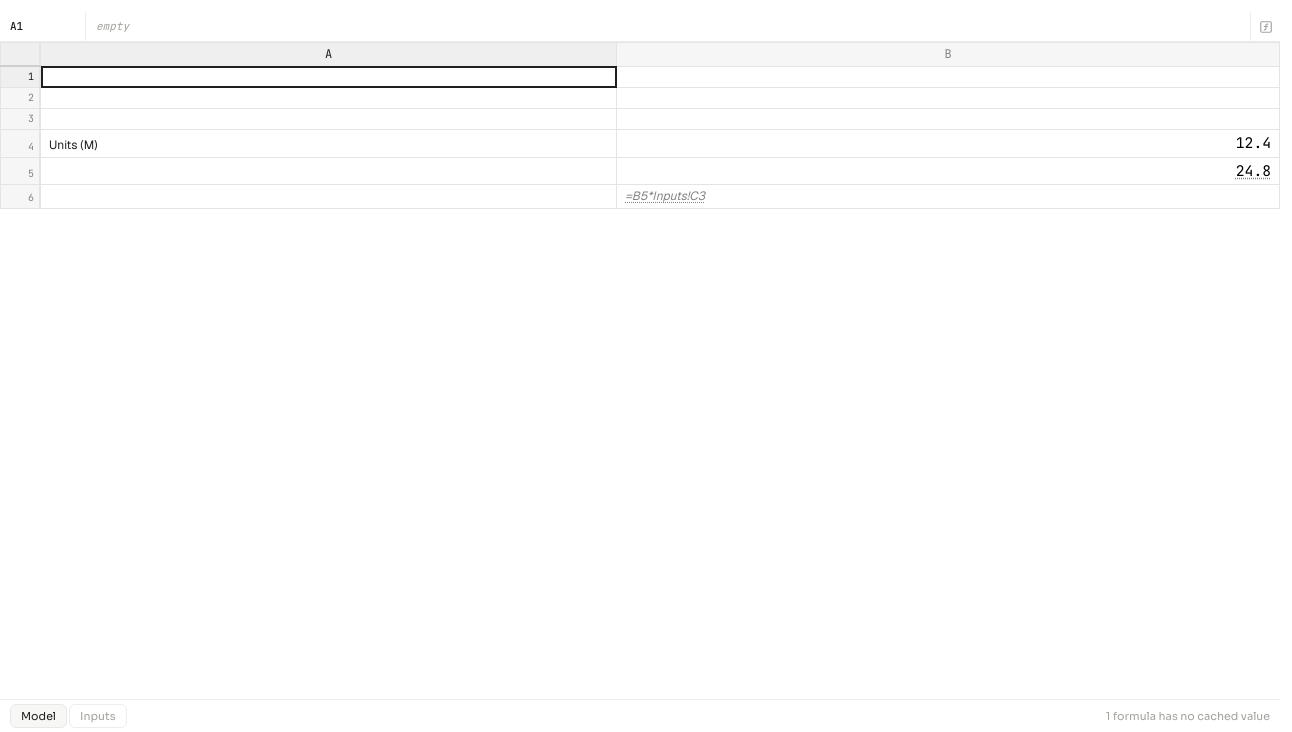
it: ExcelViewer › selects a whole row from its number, and with Shift+Space
Expected: the text "Units (M)" is shown, [40, 130, 617, 157]
Press the mouse on the column heading titled "Select row 4" at (20, 144), box [0, 130, 40, 157]
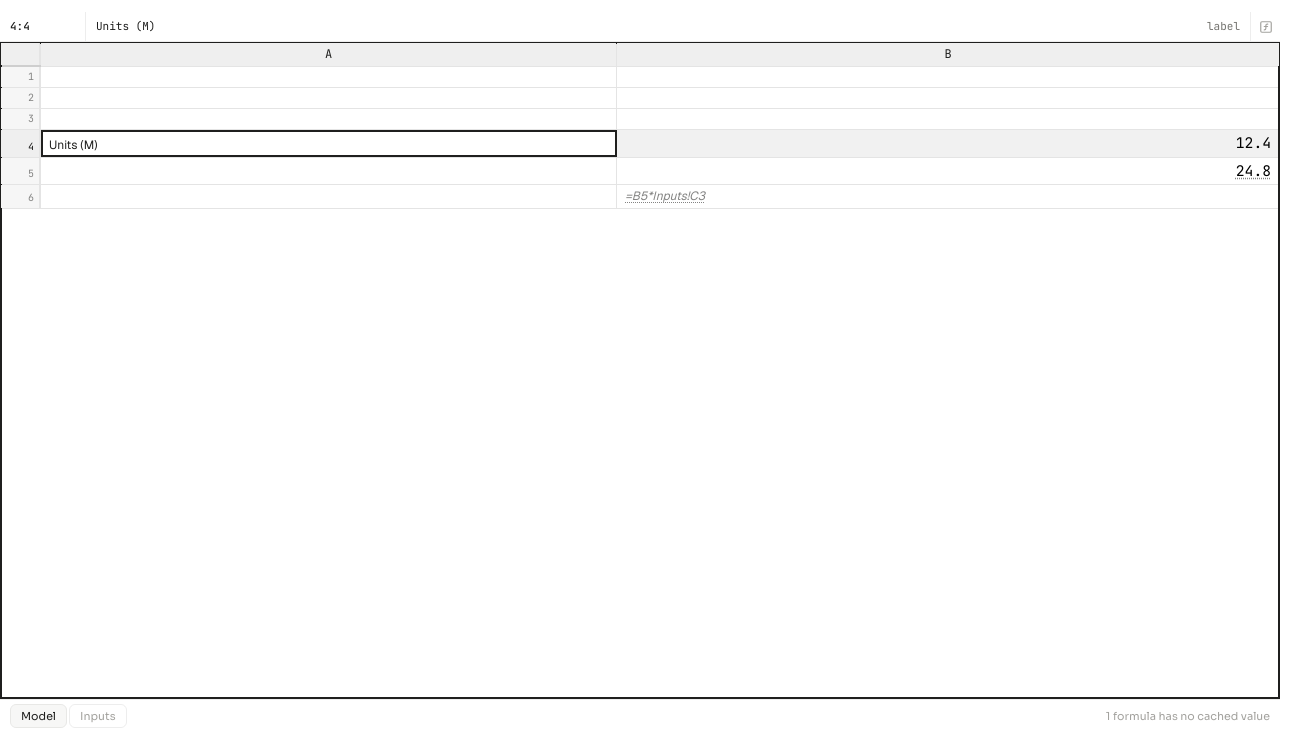
Press the mouse on the cell "24.8" at (948, 171), box [617, 157, 1280, 185]
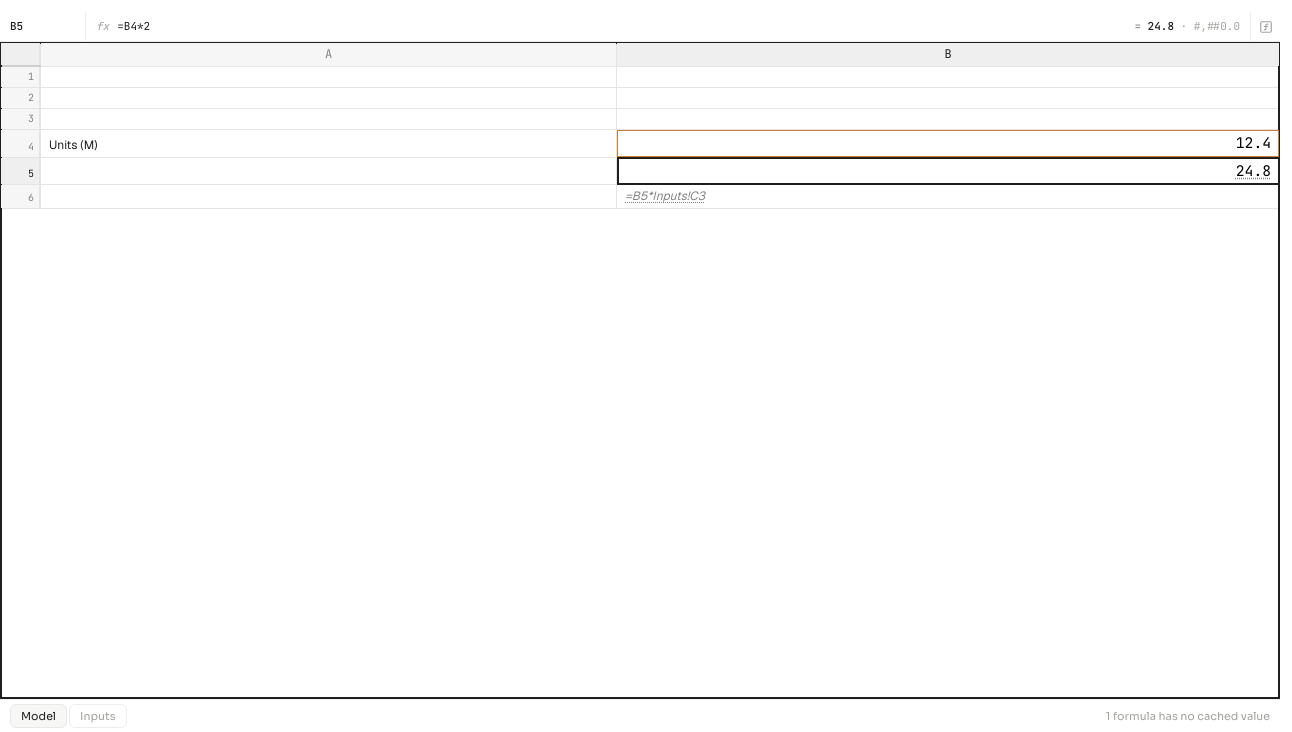
Press Space in the table named "Model cells"
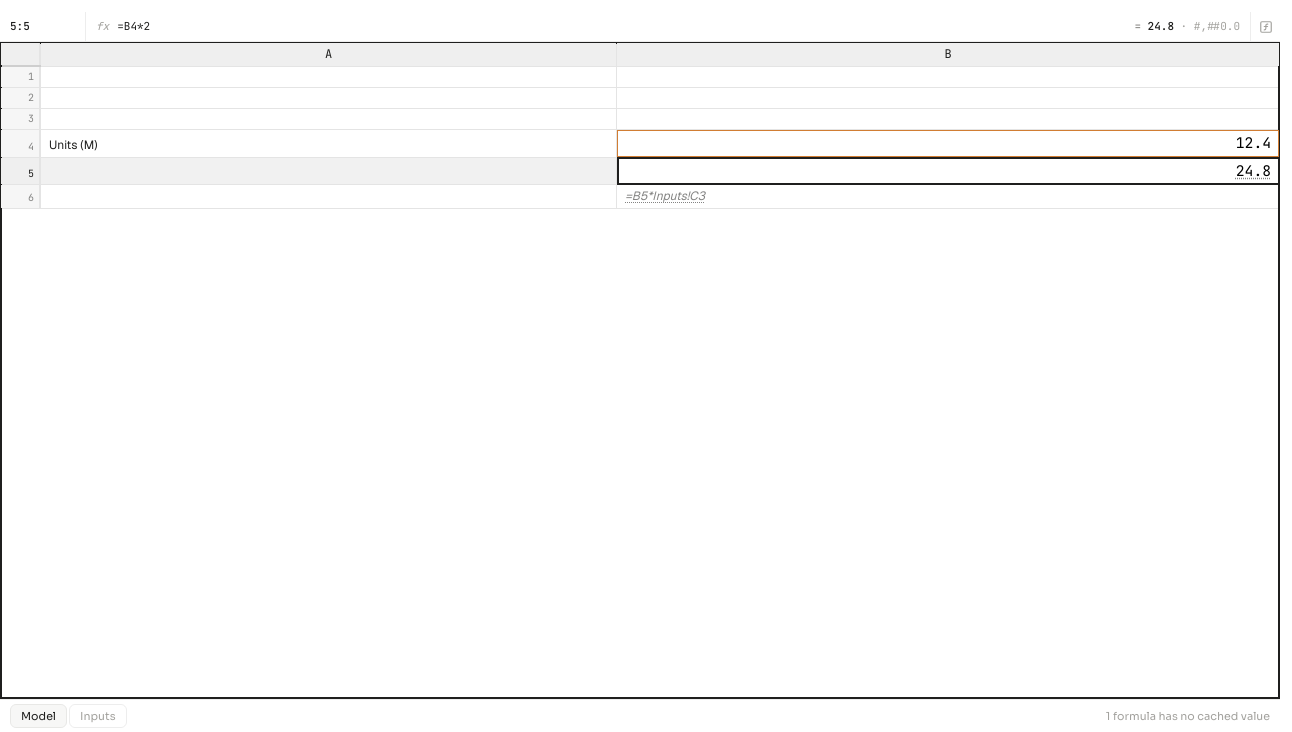
Press Space in the table named "Model cells"
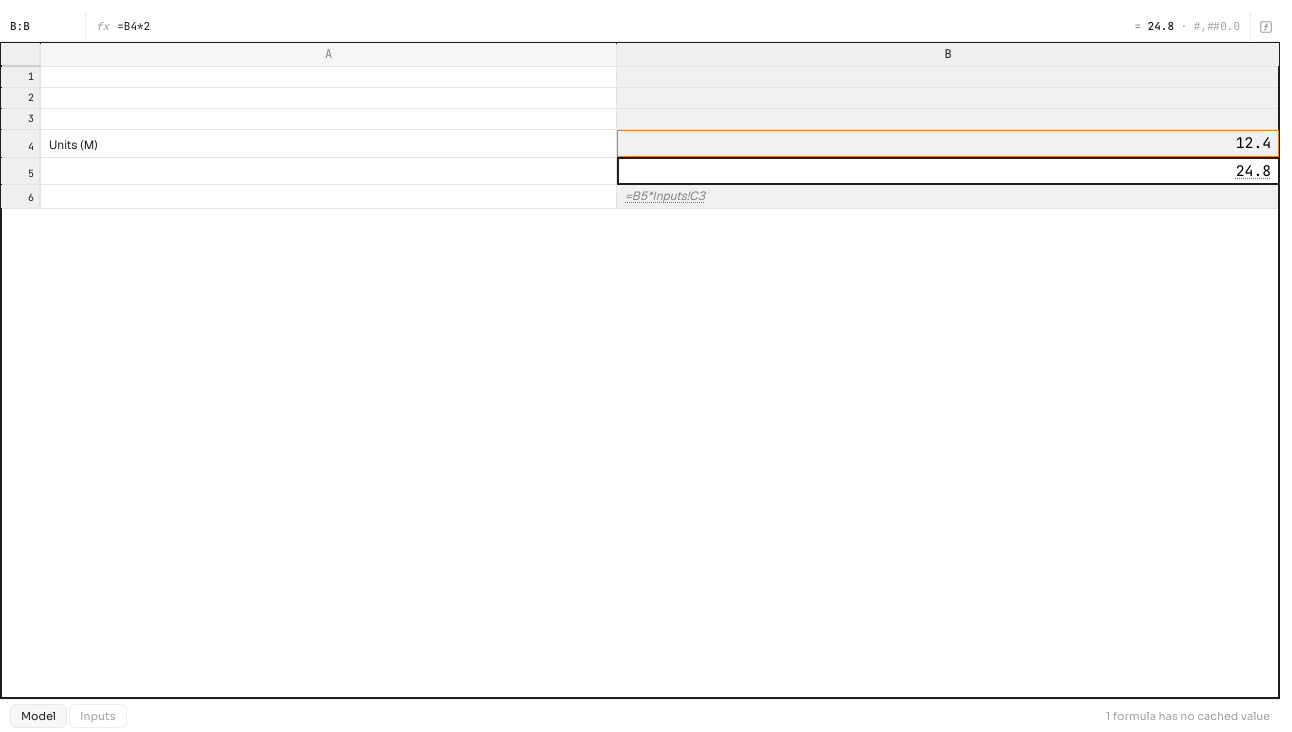
Expected: the text with class "excel-namebox" reads "B:B", [10, 19, 30, 33]
